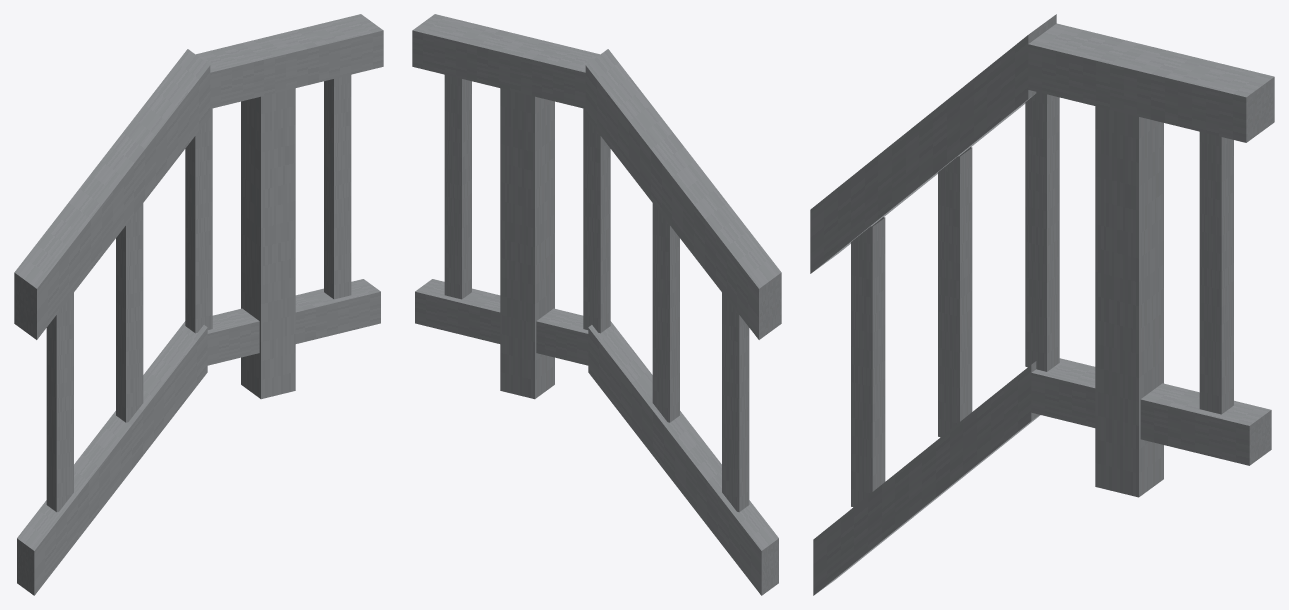
File: top_pos.obj
3 views of the same model, side by side, from view 1: azimuth 30°, elevation 25°; view 2: azimuth 150°, elevation 25°; view 3: azimuth 330°, elevation 25° (orthographic). The views are drawn at different scales.
Parts seen in each view (by area): view 1: railing_picket_grey_top_pos; view 2: railing_picket_grey_top_pos; view 3: railing_picket_grey_top_pos.
Part boxes in pixels (x1,y1,x2,y2): railing_picket_grey_top_pos: (14,14,383,595); railing_picket_grey_top_pos: (412,14,781,595); railing_picket_grey_top_pos: (810,14,1274,595).
Size of the model in its own units: 1 by 1.35 by 0.1125.
